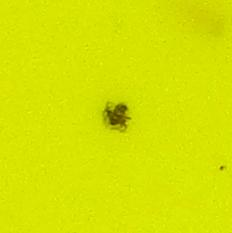Araneae: (100, 100, 132, 133)
